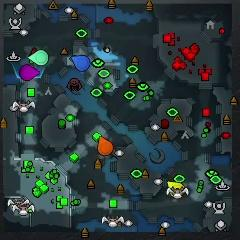p1: (71, 56, 90, 71)
p2: (28, 49, 49, 65)
p3: (19, 64, 41, 80)
p4: (167, 180, 184, 197)
p5: (98, 136, 114, 155)
